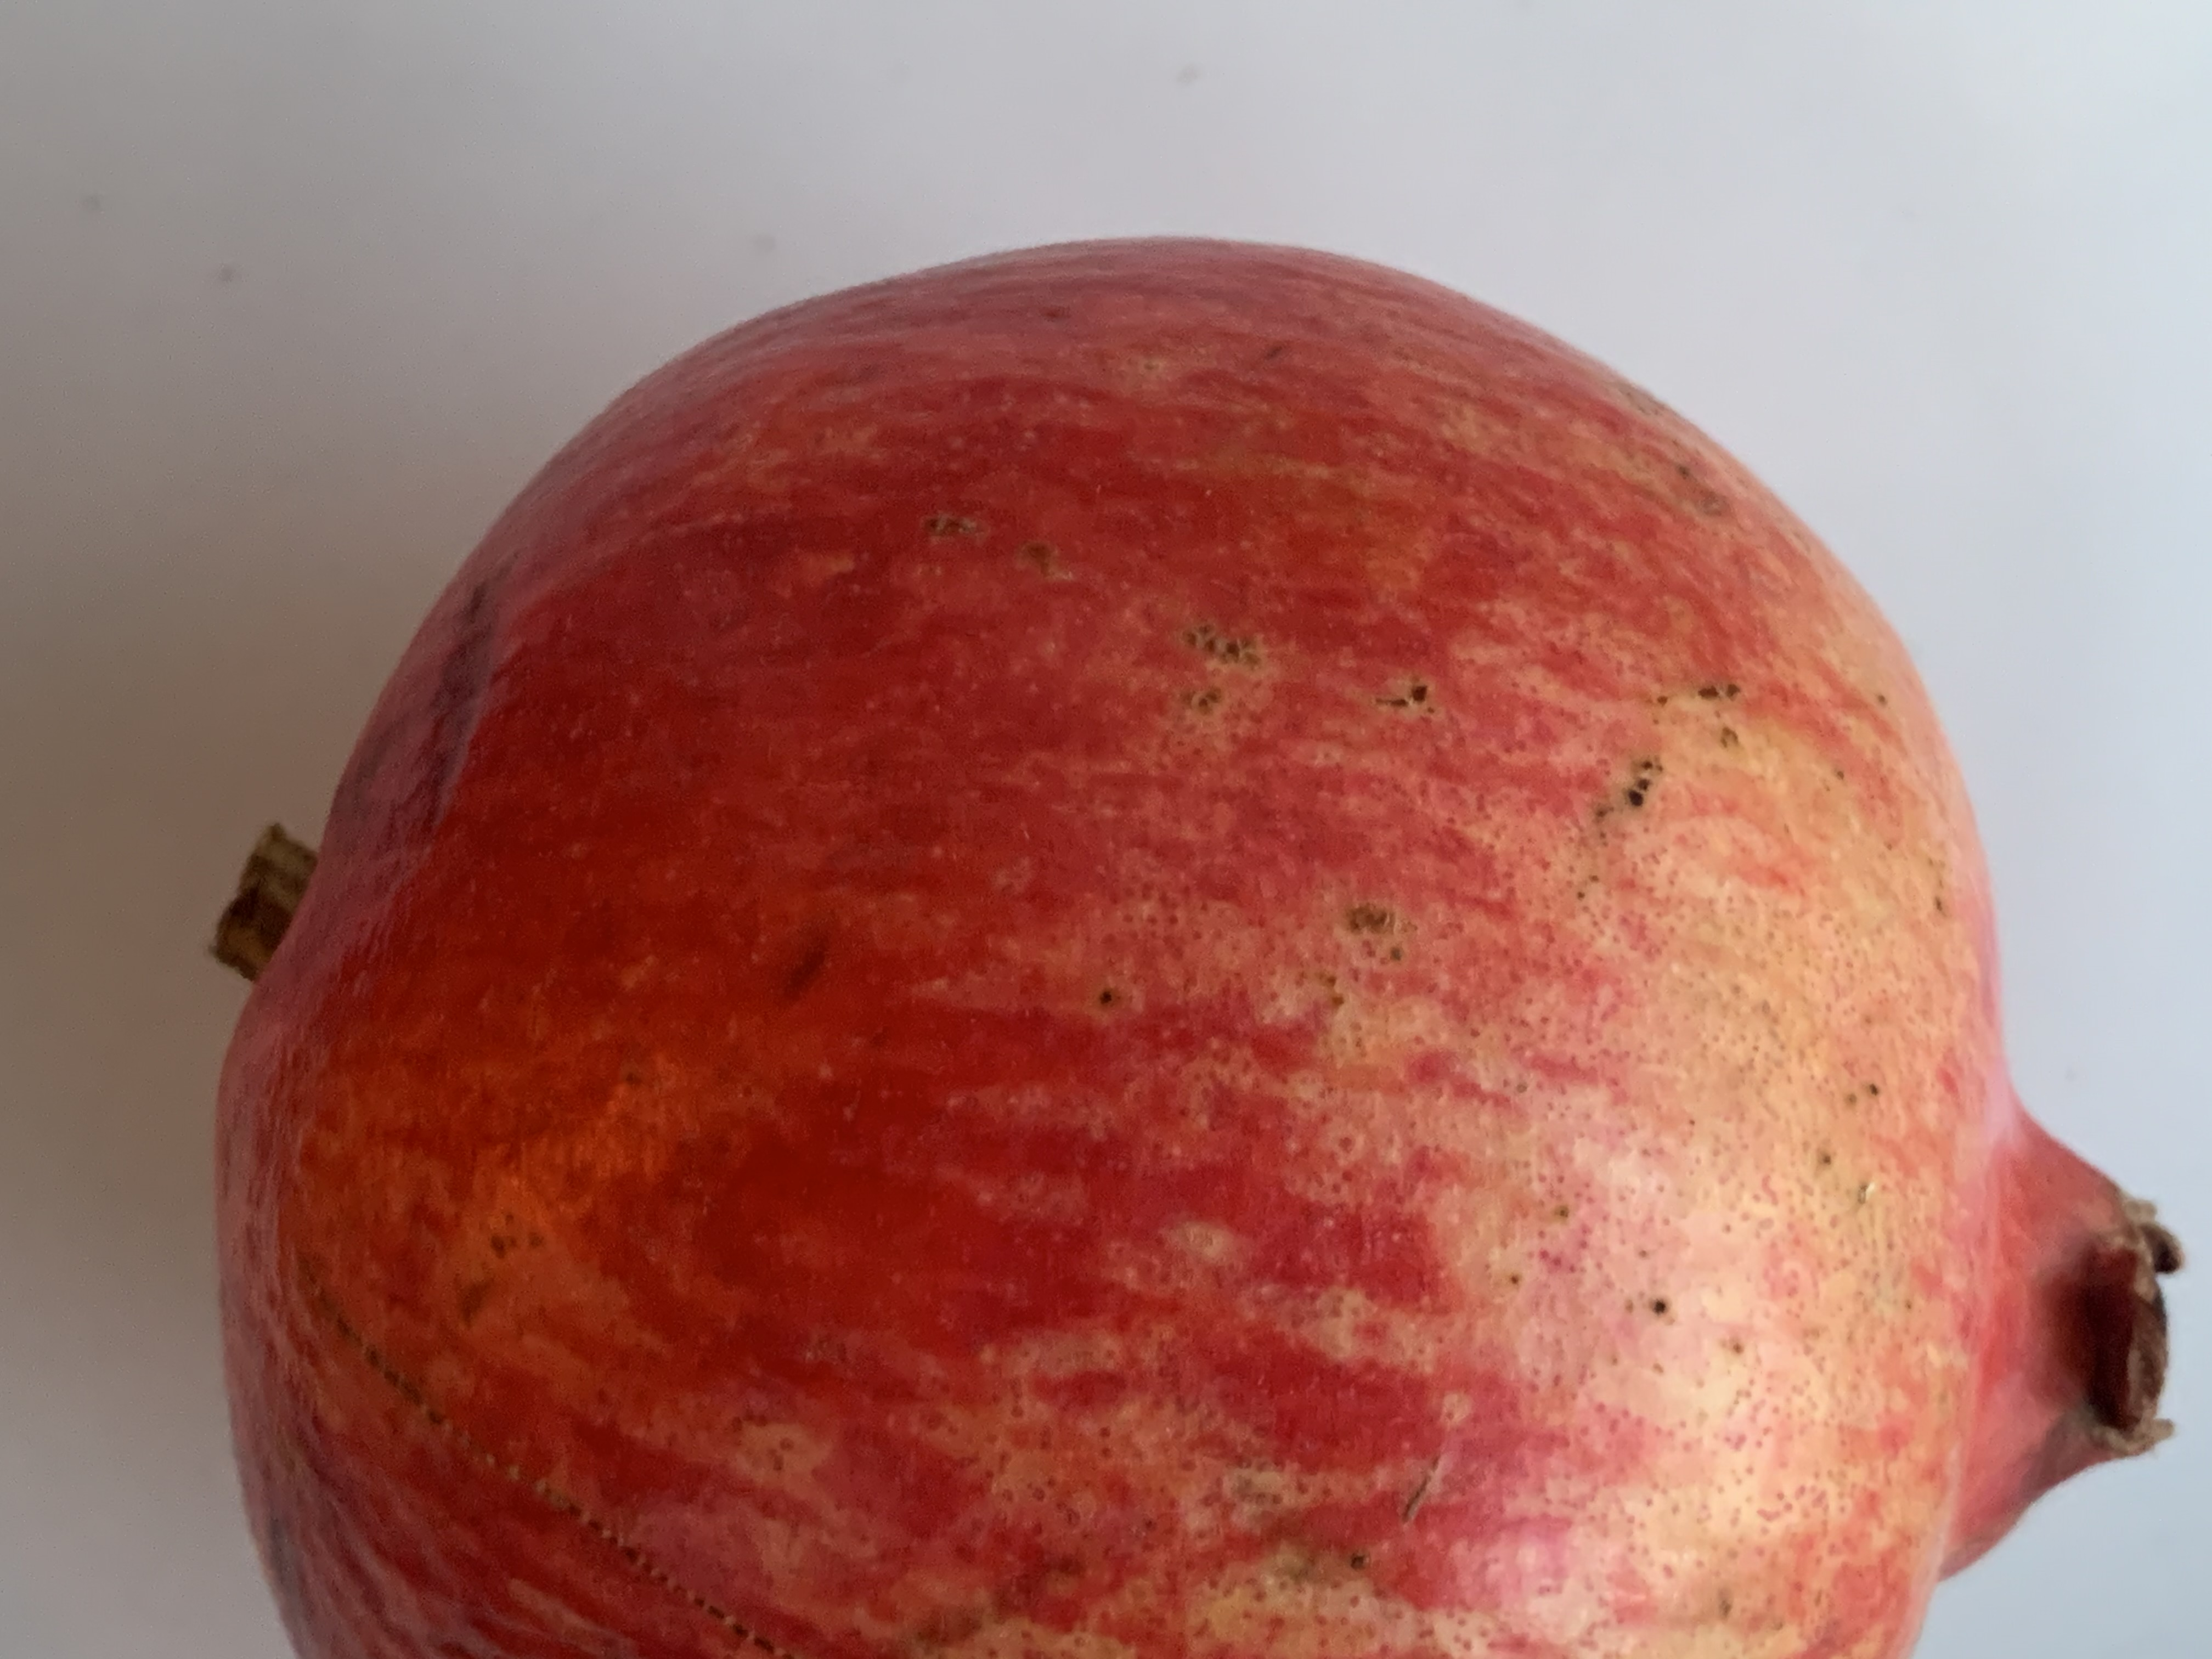Pomegranate: (172, 244, 2202, 1659)
